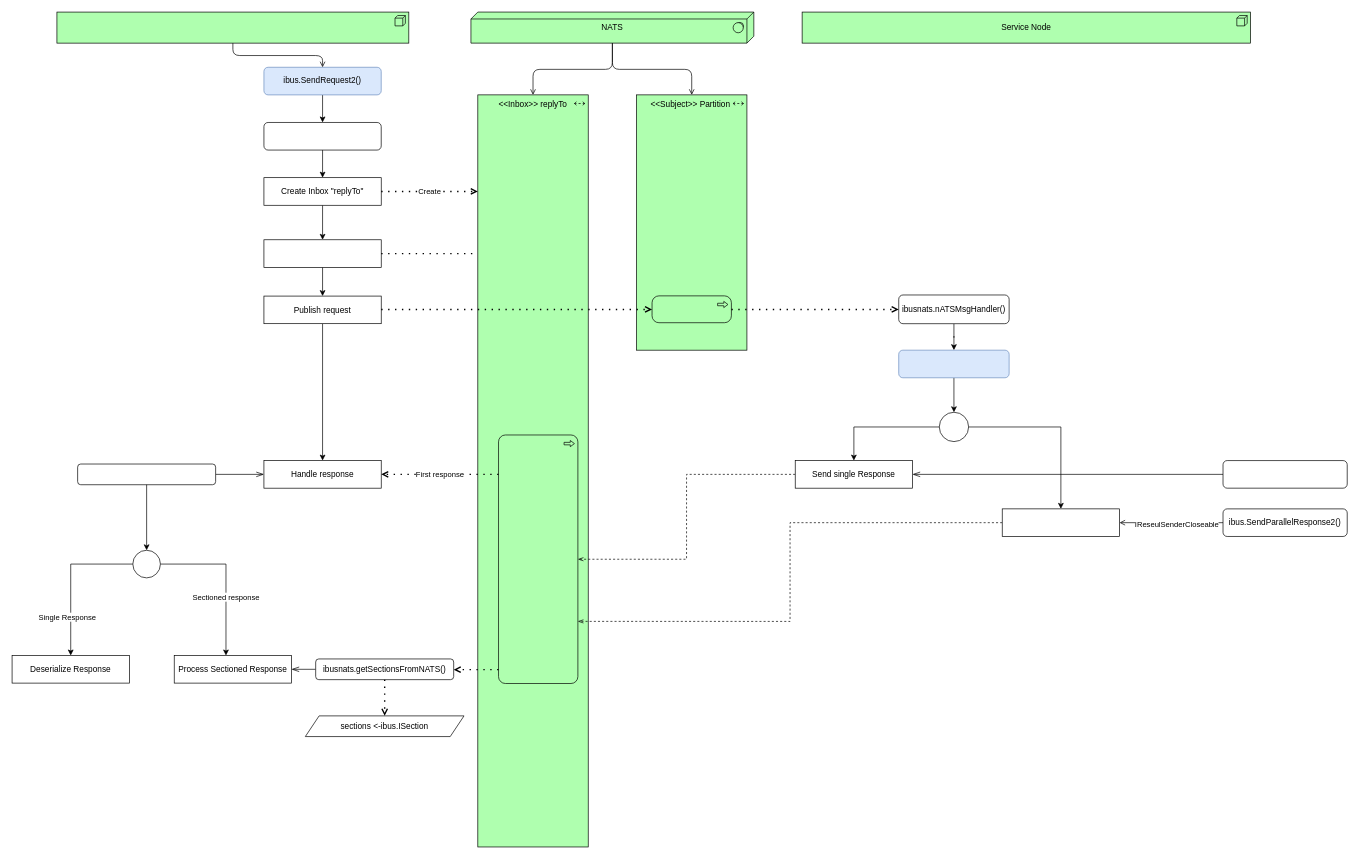
Some shapes in this 1359 by 859 pixel diagram are drawn without their labels. Here are the shapes that lost their labels. From the top down, the centre of each, then its label:
point (232, 27): Sender Node
point (322, 136): ibusnats.implSendRequest2()
point (322, 253): Subscribe to Inbox "replyTo"
point (953, 363): ibus.RequestHandler()
point (146, 474): ibusnats.handleNATSResponse()
point (1284, 474): ibus.SendResponse()
point (1061, 522): Send Sections
